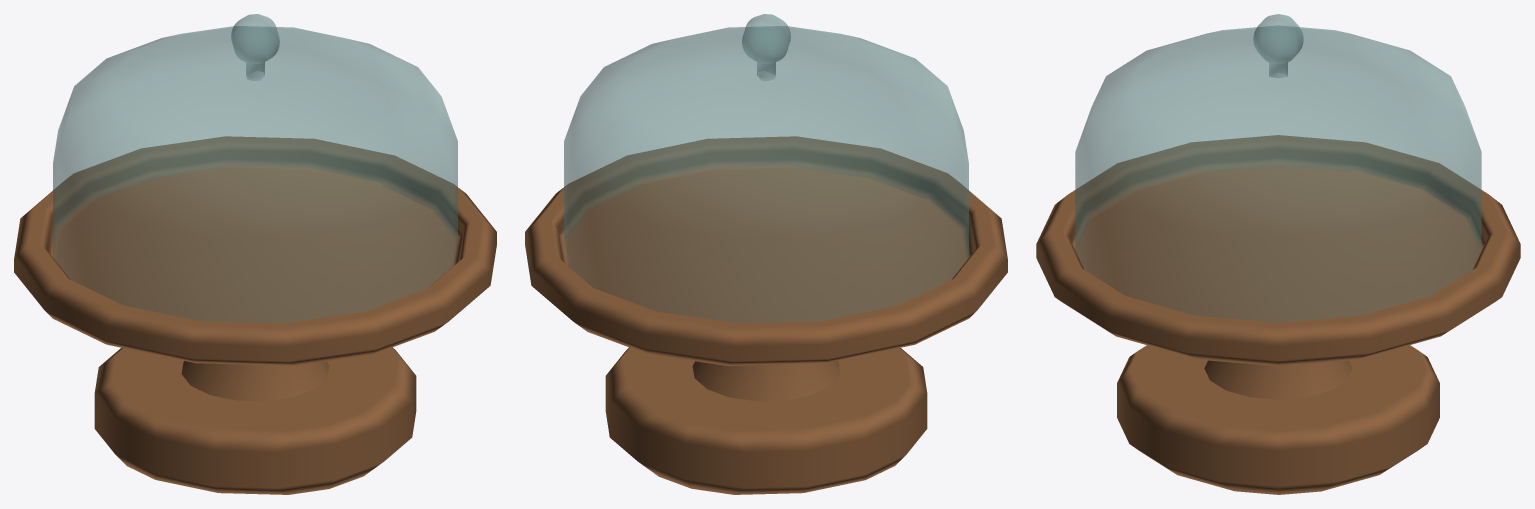
The model's file is MD_CozyShops_CakeStand.fbx.
3 views of the same model, side by side, from view 1: azimuth 30°, elevation 25°; view 2: azimuth 150°, elevation 25°; view 3: azimuth 270°, elevation 25° (orthographic).
Visible parts, largest first — view 1: SM_CozyShops_CakeStand, SM_CozyShops_CakeStand_Dome; view 2: SM_CozyShops_CakeStand, SM_CozyShops_CakeStand_Dome; view 3: SM_CozyShops_CakeStand, SM_CozyShops_CakeStand_Dome.
Part boxes in pixels (x1,y1,x2,y2): SM_CozyShops_CakeStand: (14, 136, 496, 494); SM_CozyShops_CakeStand_Dome: (53, 14, 457, 322); SM_CozyShops_CakeStand: (525, 136, 1007, 494); SM_CozyShops_CakeStand_Dome: (564, 14, 968, 322); SM_CozyShops_CakeStand: (1036, 135, 1520, 494); SM_CozyShops_CakeStand_Dome: (1075, 14, 1481, 322).
Size of the model in its own units: 0.24 by 0.2275 by 0.24.
